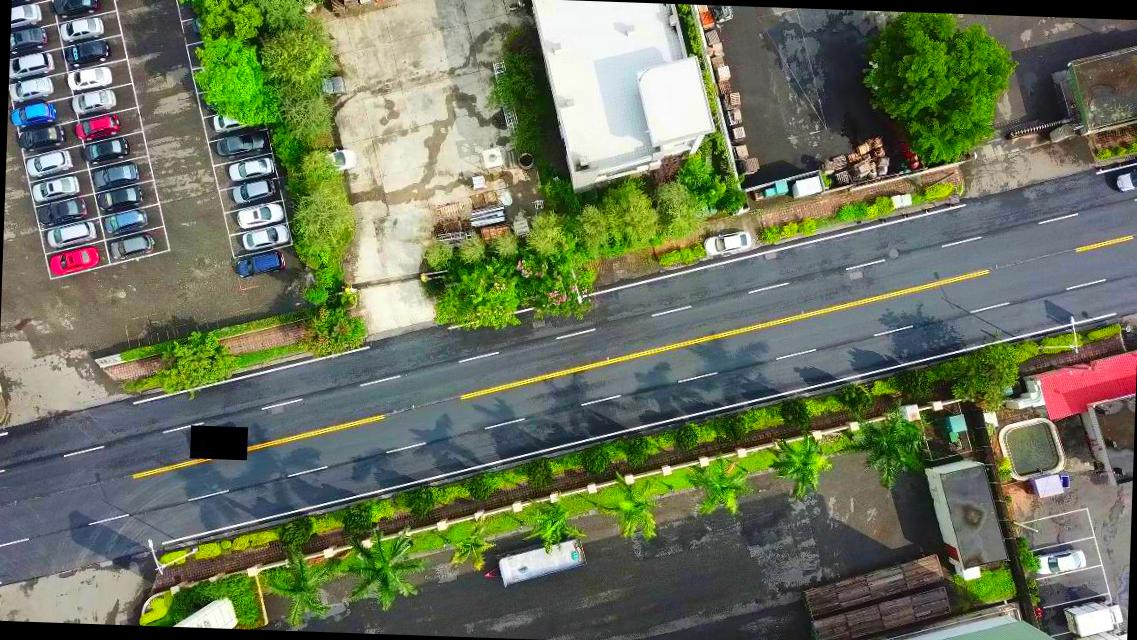vehicle: (700, 226, 754, 258), (50, 244, 102, 276), (45, 218, 96, 250), (228, 250, 286, 278), (212, 130, 268, 158), (24, 148, 72, 180), (102, 205, 148, 238), (231, 174, 278, 206), (234, 200, 286, 228), (226, 153, 276, 182), (39, 197, 89, 226), (9, 49, 54, 81), (7, 100, 55, 130), (30, 173, 79, 202), (56, 13, 104, 42), (63, 36, 109, 66), (107, 232, 156, 260), (242, 220, 290, 248), (18, 122, 66, 150), (9, 74, 56, 102), (96, 182, 142, 210), (94, 158, 140, 186), (70, 84, 116, 112), (66, 63, 112, 91), (210, 110, 262, 134), (75, 113, 118, 141), (81, 136, 127, 162), (10, 24, 46, 54), (10, 1, 42, 32), (49, 0, 97, 16), (316, 75, 346, 100), (331, 146, 357, 172)
